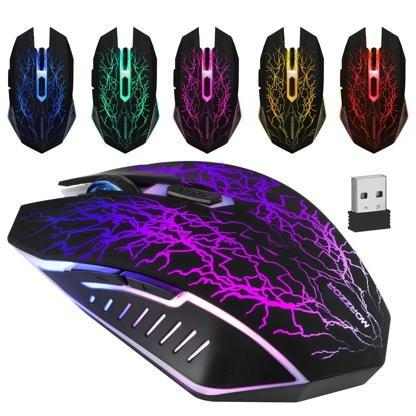not trash: (9, 152, 398, 402), (4, 22, 81, 156), (89, 20, 163, 159), (257, 25, 329, 159), (170, 29, 244, 157), (335, 26, 400, 154), (346, 167, 397, 239)
